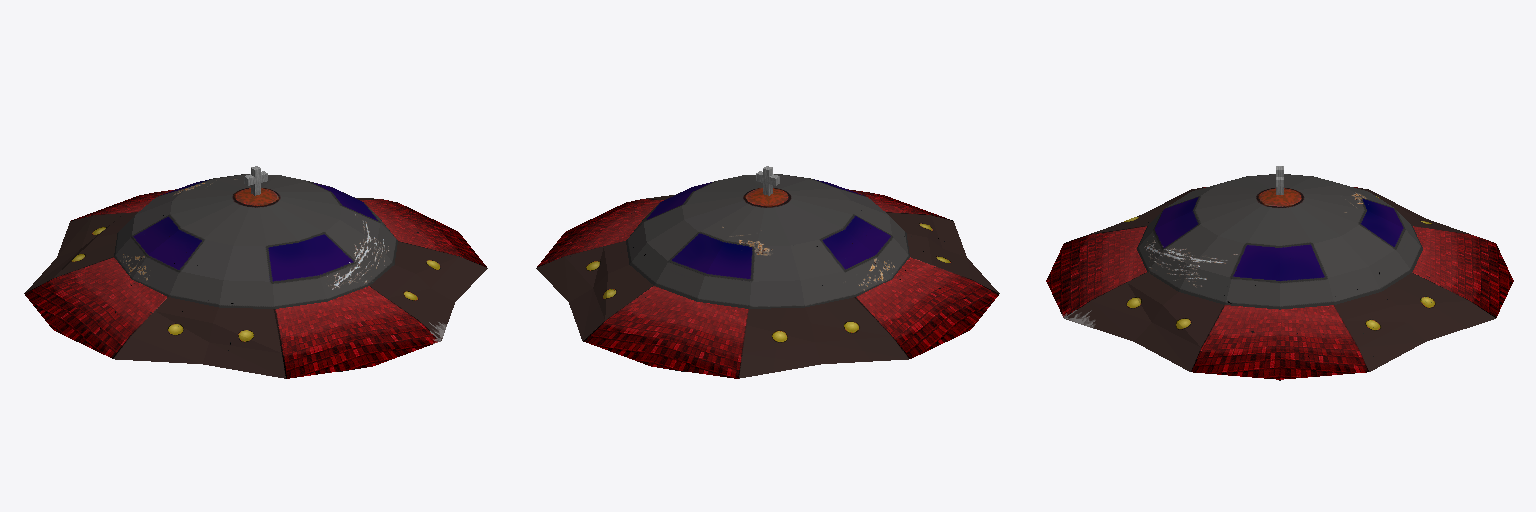
3 views of the same model, side by side, from view 1: azimuth 30°, elevation 25°; view 2: azimuth 150°, elevation 25°; view 3: azimuth 270°, elevation 25° (orthographic).
Visible parts, largest first — view 1: Sphere; view 2: Sphere; view 3: Sphere.
Part boxes in pixels (left/top/right/bottom): Sphere: left=24, top=166, right=487, bottom=378; Sphere: left=536, top=166, right=999, bottom=378; Sphere: left=1046, top=166, right=1513, bottom=380.
Bounding box in the file's own units: 9.88 × 4.1 × 9.88.
Materials: 1 (1 with a texture image).